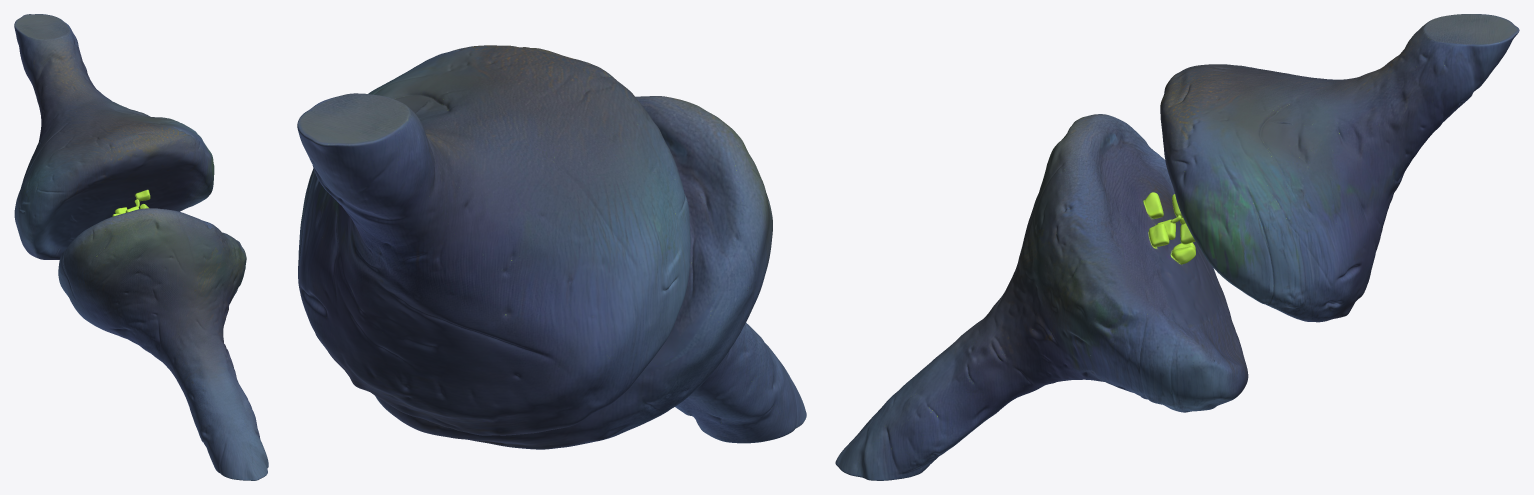
File: Lop11_Hệ thần kinh_Tab3_Synapse.glb
3 renders of one model, left to right at view 1: azimuth 30°, elevation 25°; view 2: azimuth 150°, elevation 25°; view 3: azimuth 270°, elevation 25°, orthographic. The views are drawn at different scales.
Parts seen in each view (by area): view 1: tripo_node_ee09a3a7-360a-4962-ba67-edaec86389e6; view 2: tripo_node_ee09a3a7-360a-4962-ba67-edaec86389e6; view 3: tripo_node_ee09a3a7-360a-4962-ba67-edaec86389e6.
Part boxes in pixels (bbox=[...]): tripo_node_ee09a3a7-360a-4962-ba67-edaec86389e6: bbox=[14, 14, 268, 480]; tripo_node_ee09a3a7-360a-4962-ba67-edaec86389e6: bbox=[297, 45, 806, 449]; tripo_node_ee09a3a7-360a-4962-ba67-edaec86389e6: bbox=[835, 14, 1519, 480].
Bounding box in the file's own units: 0.4478 × 0.7029 × 1.
Materials: 1 (1 with a texture image).
